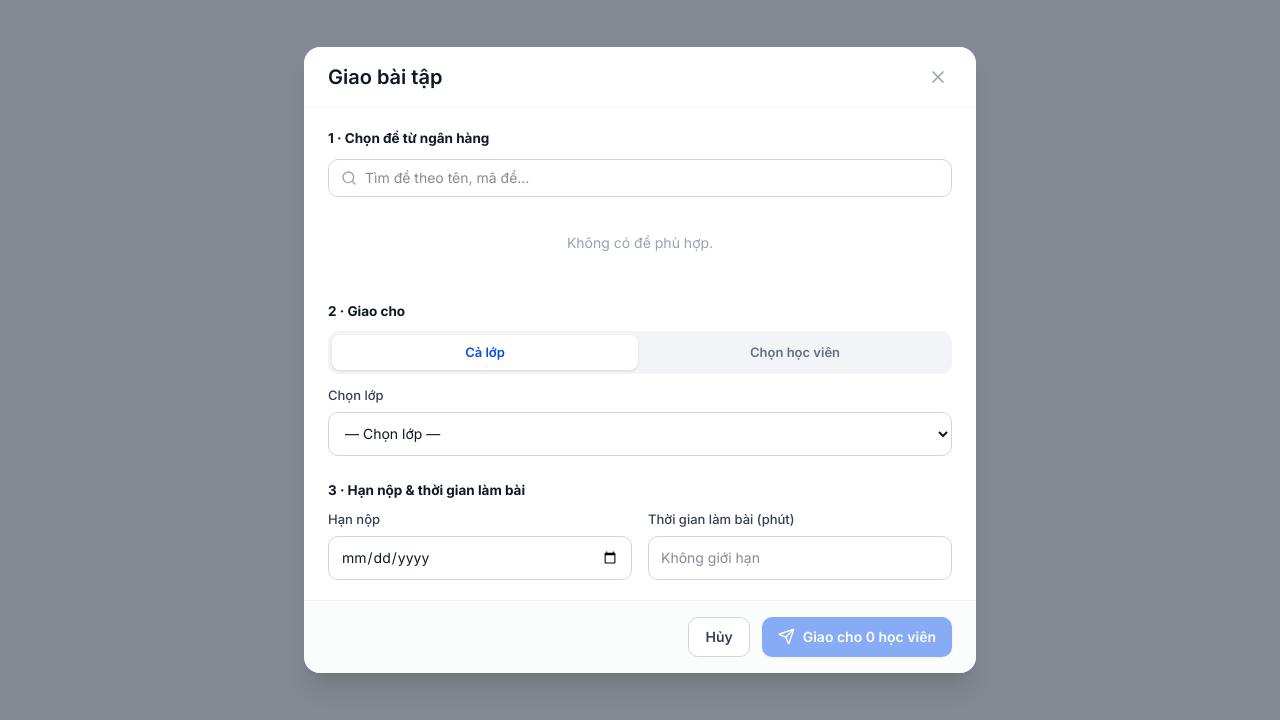
Test: AssignDialog — Chọn học viên › lists every student of the centre for the owner
The image size is (1280, 720).
Click the button "Chọn học viên".
click(795, 353)  # box [642,335,948,370]
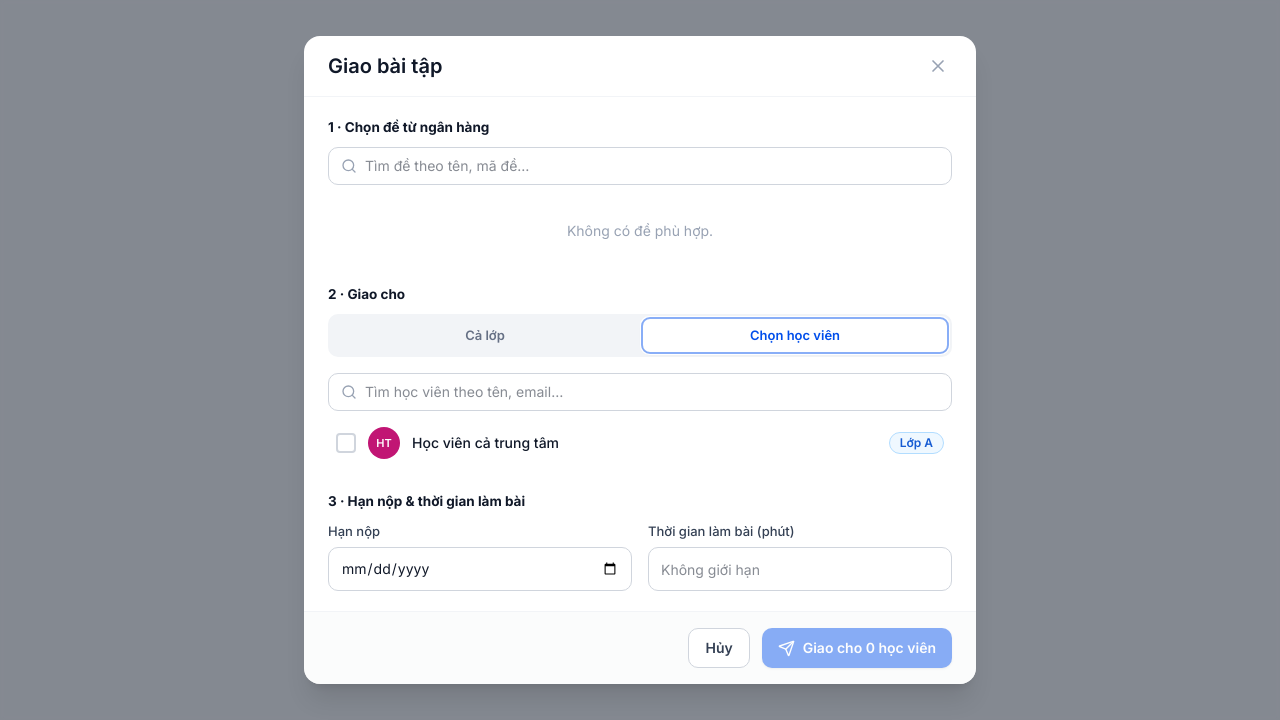
Expected: the text "Học viên cả trung tâm" is shown, [412,434,559,451]
